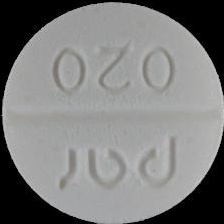49884-020: (0, 0, 224, 224)
